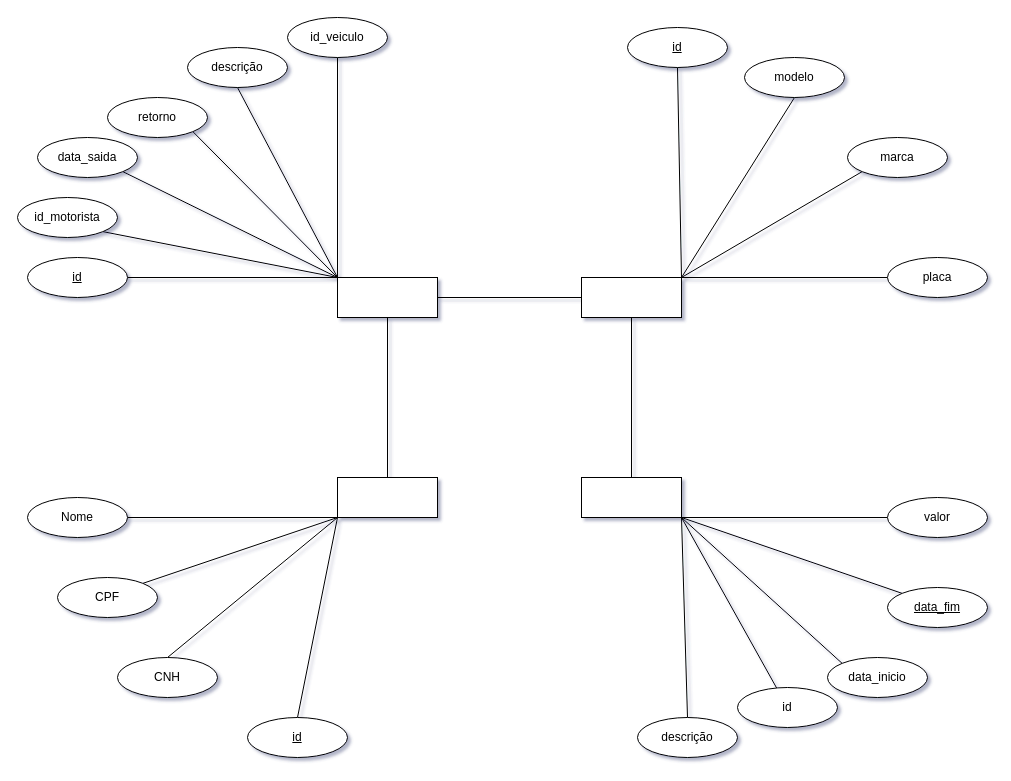
Some shapes in this 1011 by 781 pixel diagram are drawn without their labels. The box of each missing label's shape, as (x1, y1, x2, y2) in pixels:
Frota: (580, 276, 682, 318)
Manutenção: (580, 476, 682, 518)
Motorista: (336, 476, 438, 518)
Serviços: (336, 276, 438, 318)
